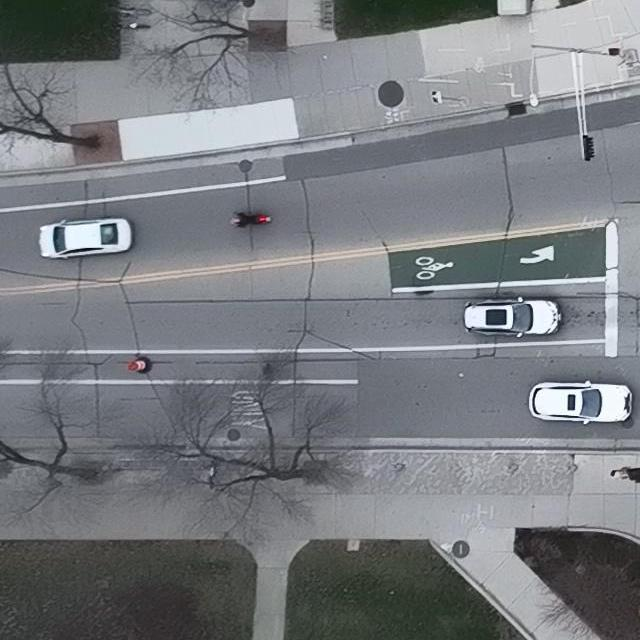car: (527, 380, 633, 425), (463, 297, 562, 338), (39, 217, 132, 260)
